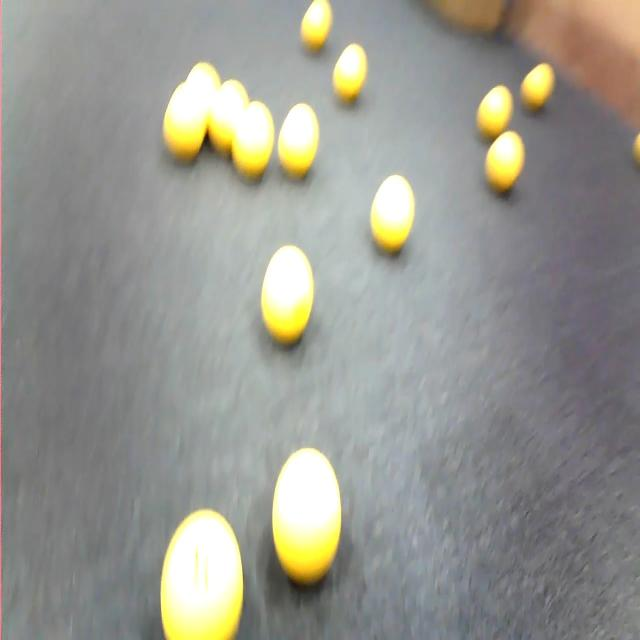fuel: (145, 491, 255, 640), (261, 417, 351, 598), (254, 229, 320, 349), (362, 165, 429, 253), (157, 80, 210, 181), (228, 94, 276, 195), (473, 130, 528, 214), (276, 95, 320, 188), (205, 69, 249, 156), (468, 79, 520, 147), (332, 38, 372, 112), (520, 58, 563, 125), (181, 57, 223, 111), (296, 0, 336, 55), (632, 124, 640, 172)
